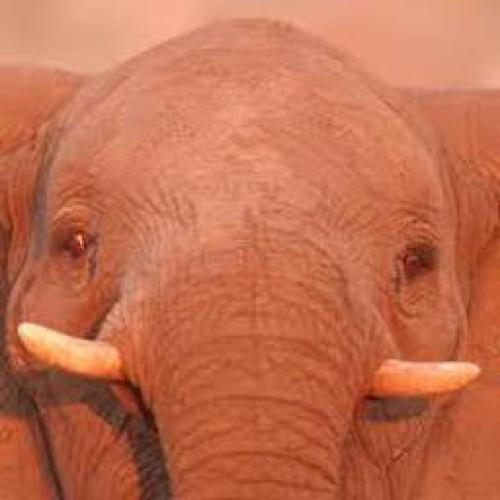african_elephant-endangered: (0, 23, 500, 500)
